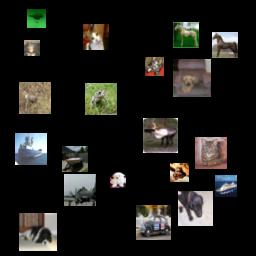airplane: (64, 174, 96, 206), (27, 9, 46, 28)
automobile: (136, 205, 171, 240)
cat: (195, 137, 227, 169), (83, 24, 109, 50), (145, 57, 164, 76)
deer: (143, 118, 178, 153), (19, 82, 51, 114)
dog: (19, 213, 57, 251), (173, 59, 211, 97), (178, 191, 213, 226), (110, 172, 126, 188), (24, 40, 40, 56)
frog: (85, 83, 117, 115), (170, 163, 189, 182)
ship: (15, 133, 47, 165), (62, 146, 88, 172), (215, 175, 237, 197)
